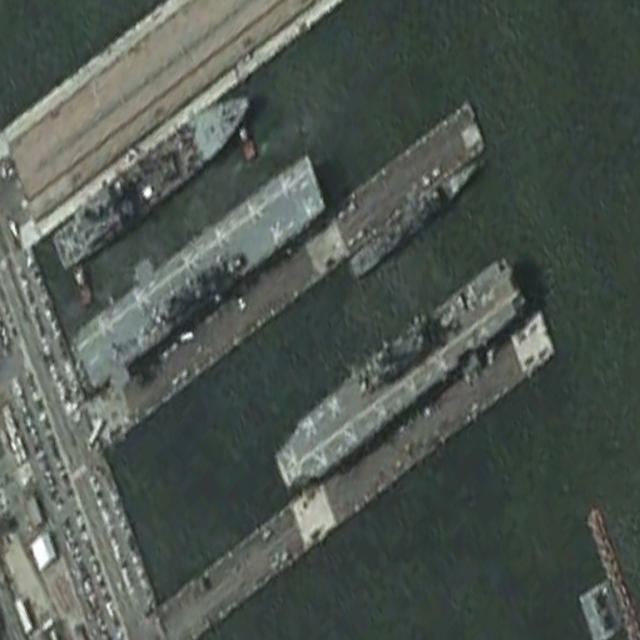Commander: (49, 79, 258, 276)
Landing: (60, 137, 332, 410), (267, 248, 533, 514)
Other Warship: (346, 154, 483, 282)
